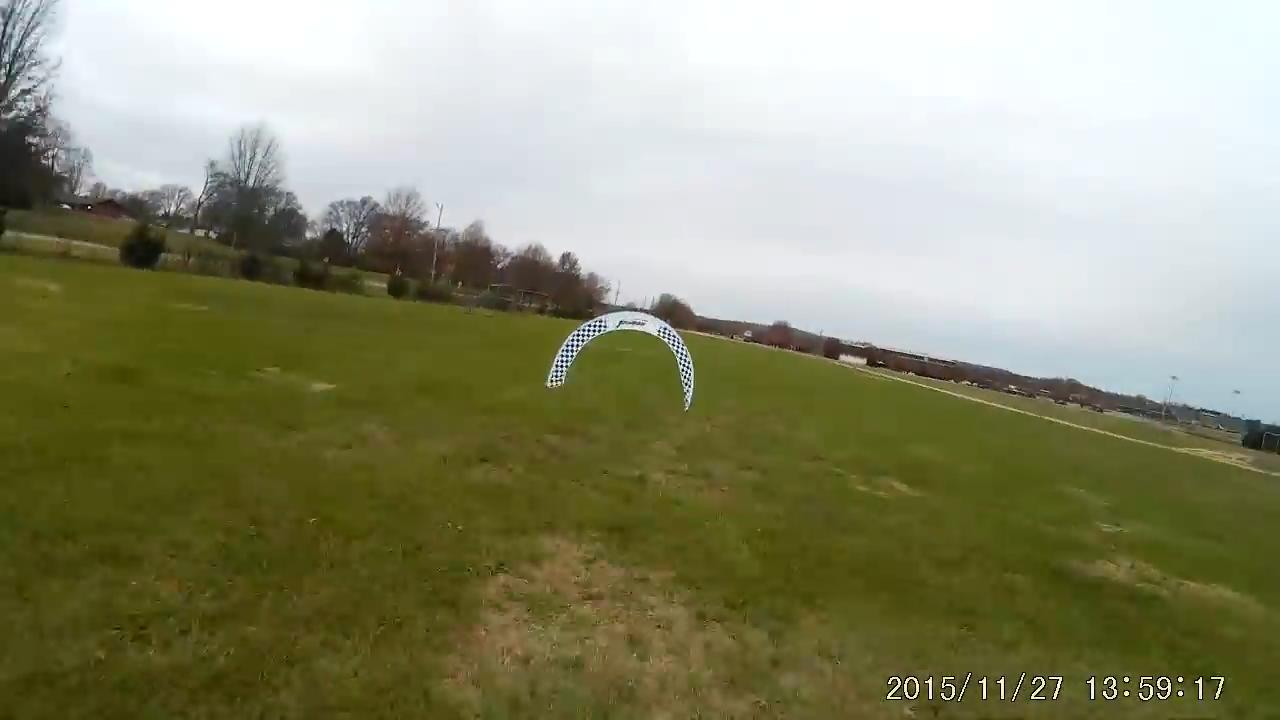gate: (542, 306, 696, 416)
